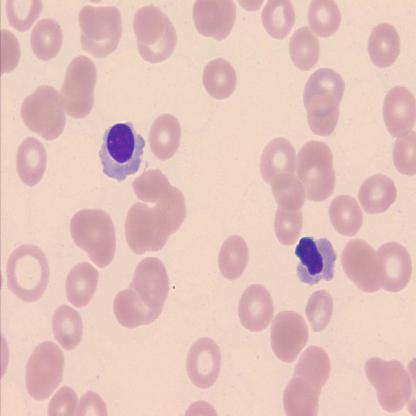NRC: (97, 119, 147, 184)
